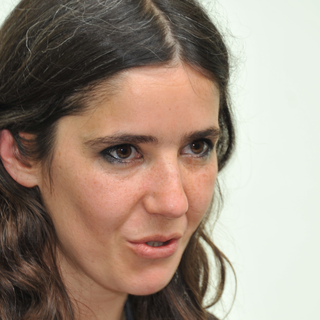eye: (94, 140, 147, 166), (179, 132, 222, 160)
